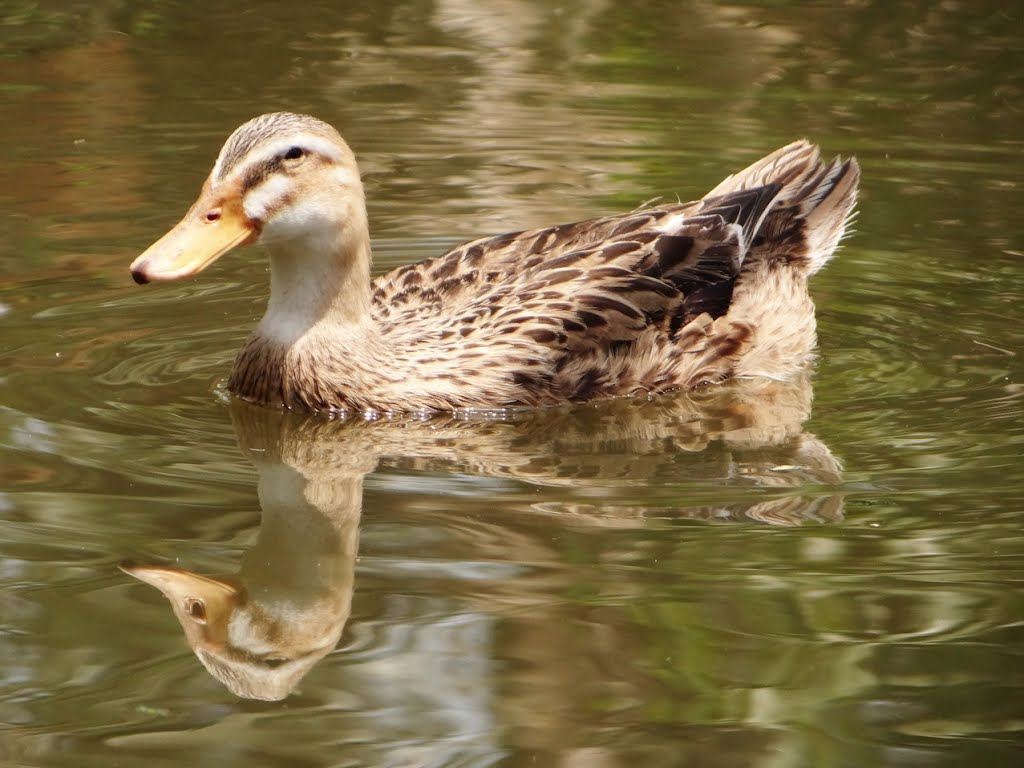Vịt/Duck: (108, 74, 900, 503)
